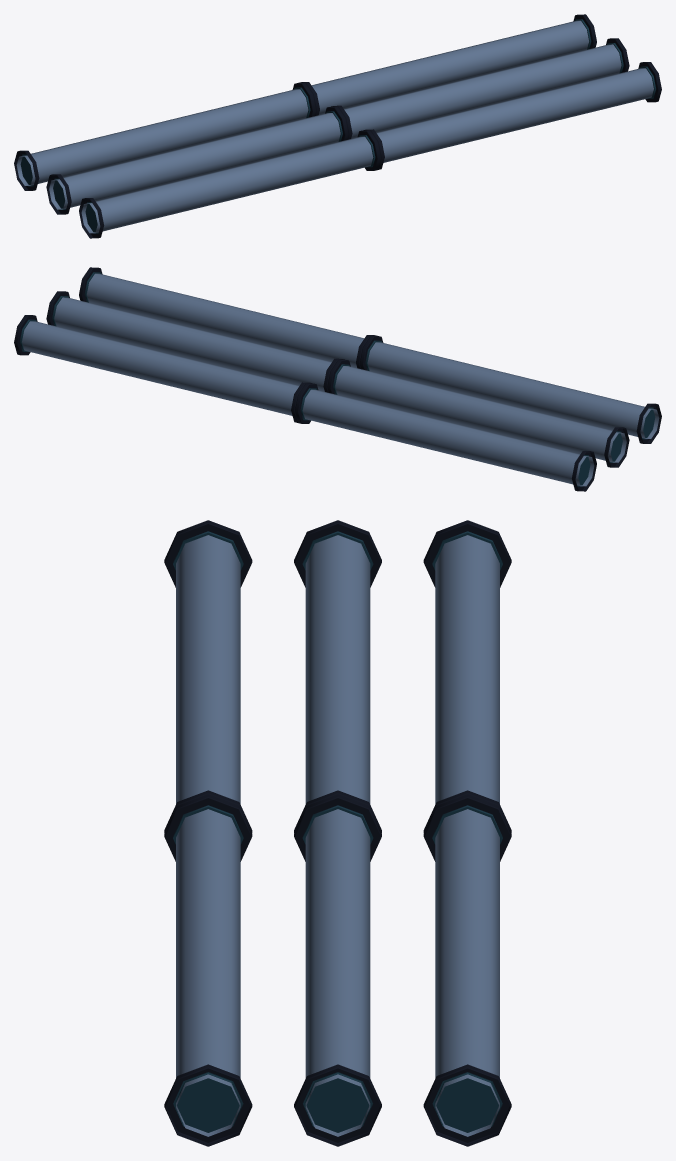
Rendered from PipeComplexSmall_A_02.fbx.
3 renders of one model, top to bottom at view 1: azimuth 30°, elevation 25°; view 2: azimuth 150°, elevation 25°; view 3: azimuth 270°, elevation 25°, orthographic. The views are drawn at different scales.
Visible parts, largest first — view 1: PipeComplexSmall_A_02.001; view 2: PipeComplexSmall_A_02.001; view 3: PipeComplexSmall_A_02.001.
Part boxes in pixels (x1,y1,x2,y2): PipeComplexSmall_A_02.001: [14, 14, 661, 238]; PipeComplexSmall_A_02.001: [14, 267, 661, 491]; PipeComplexSmall_A_02.001: [164, 520, 511, 1146].
Size of the model in its own units: 2 by 0.1356 by 0.5356.
